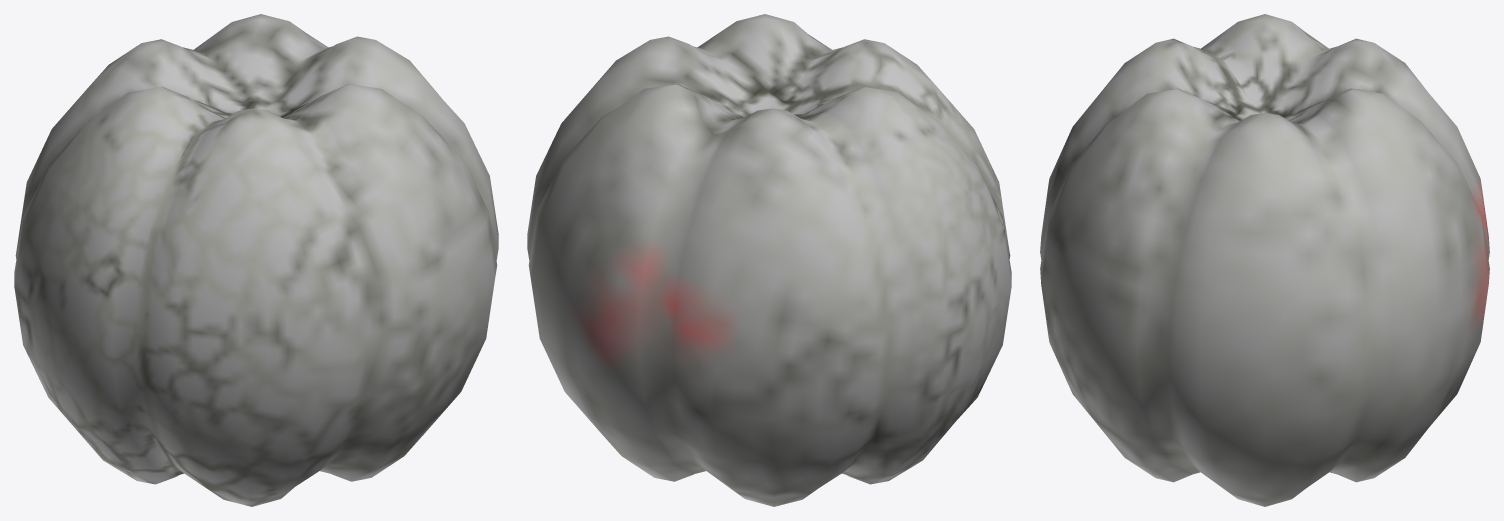
File: MDL_hearty_seed.fbx
The picture shows the model from 3 angles, left to right: view 1: azimuth 30°, elevation 25°; view 2: azimuth 150°, elevation 25°; view 3: azimuth 270°, elevation 25°; orthographic projection.
Visible parts, largest first — view 1: MDL_hearty_seed; view 2: MDL_hearty_seed; view 3: MDL_hearty_seed.
Boxes of the visible parts, <box> form: MDL_hearty_seed: <box>14,14,498,506</box>; MDL_hearty_seed: <box>527,14,1011,506</box>; MDL_hearty_seed: <box>1040,14,1489,506</box>.
Size of the model in its own units: 2.53 by 2.21 by 2.32.
